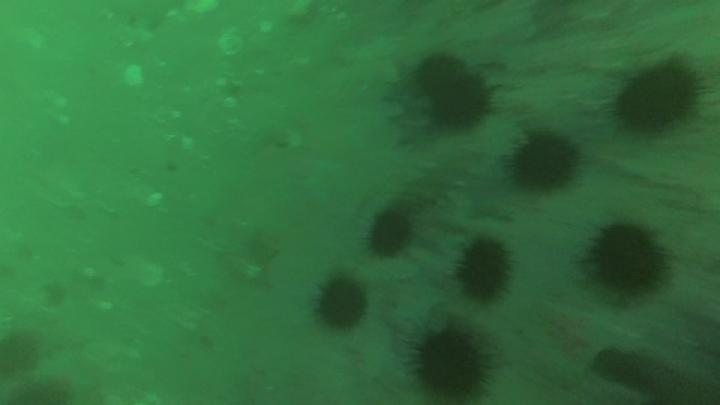echinus: (621, 66, 699, 133), (595, 226, 668, 292), (418, 333, 485, 399), (515, 136, 578, 190), (459, 240, 512, 301), (435, 72, 493, 123), (317, 282, 366, 329), (371, 215, 413, 254), (420, 57, 463, 84)
holothurian: (393, 145, 487, 198)
starfish: (472, 172, 514, 223)
